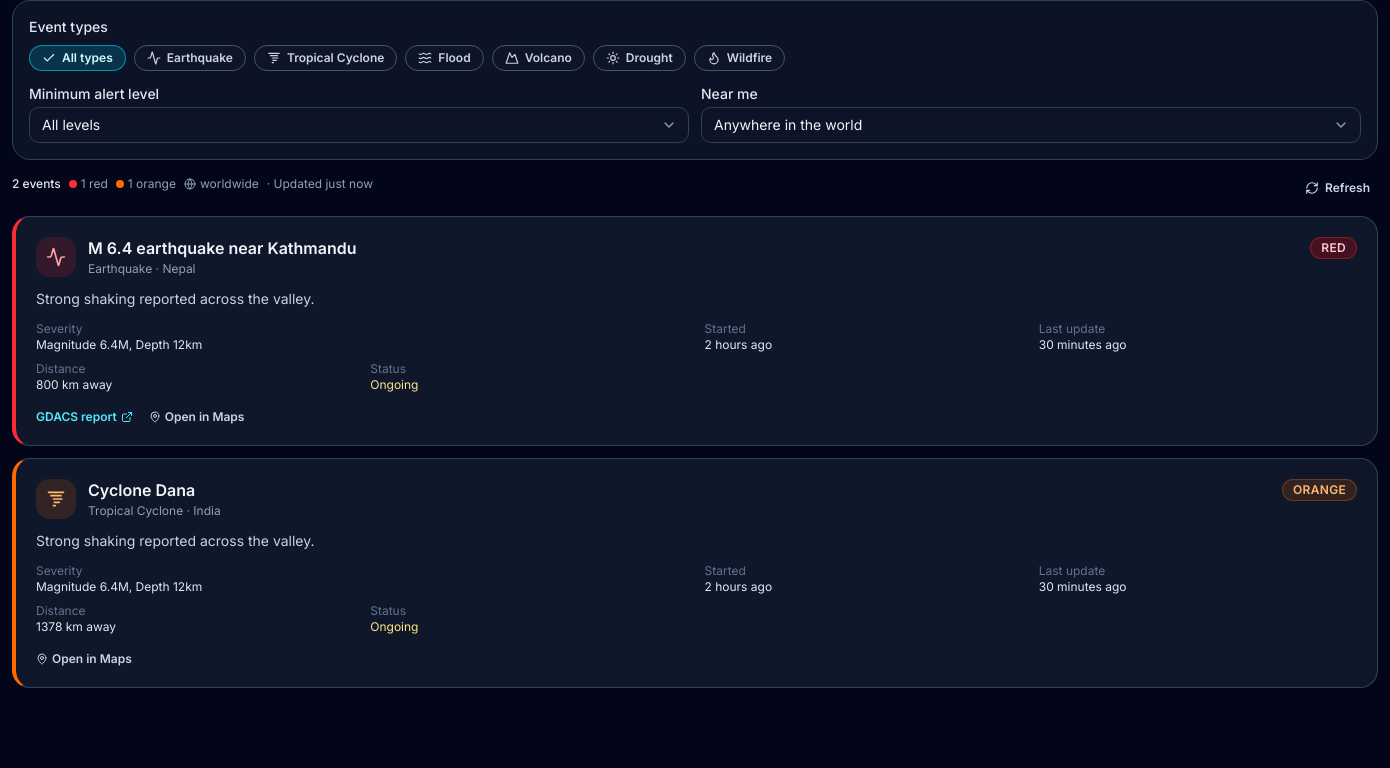
DisasterEventsPanel › filters by event type chips and minimum level
Later steps or results of the test are not shown.
Expected: the heading "Cyclone Dana" is shown, top-left (88, 480), bottom-right (195, 500)
Click the button "Earthquake": coordinates (190, 58) top-left (134, 45), bottom-right (246, 71)
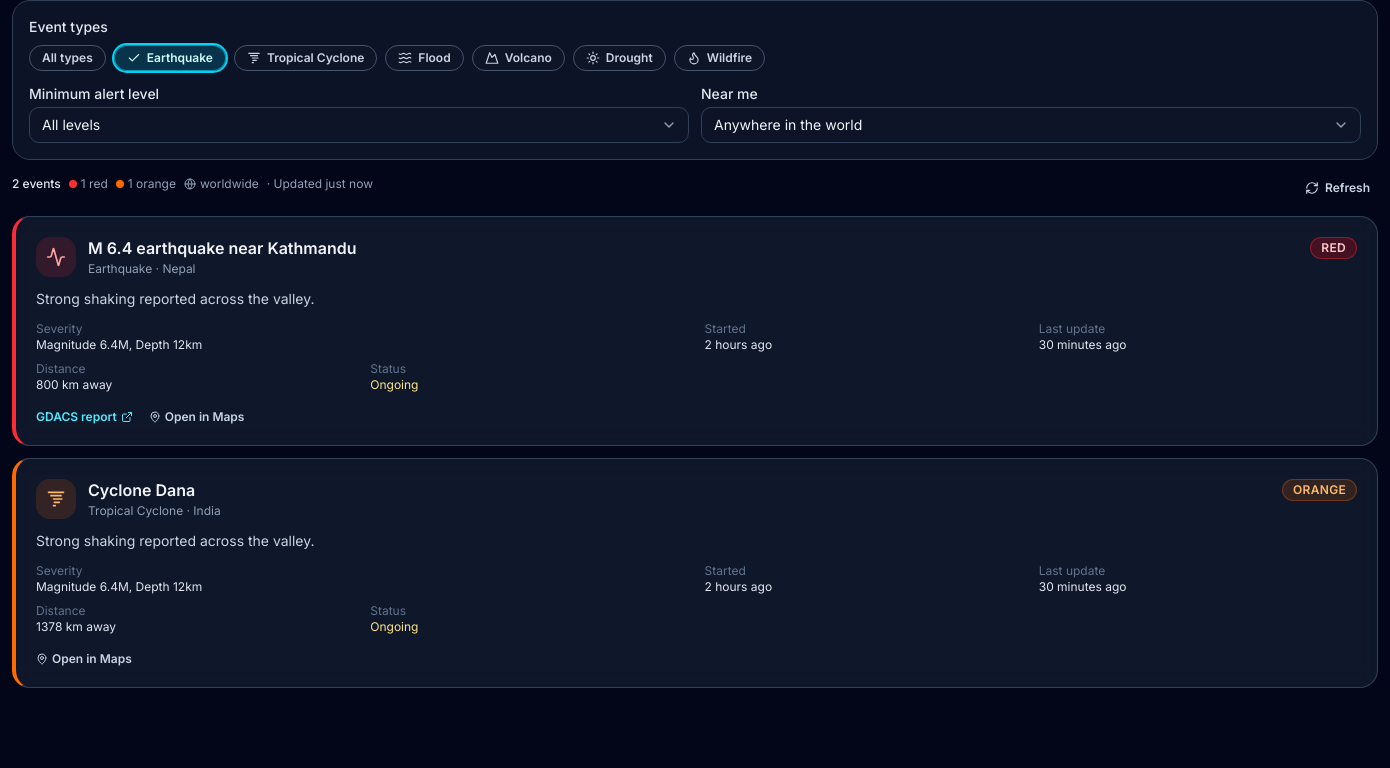
Now the button "Earthquake" is pressed, box top-left (114, 45), bottom-right (226, 71)
Now the button "All types" is not pressed, box top-left (29, 45), bottom-right (106, 71)
